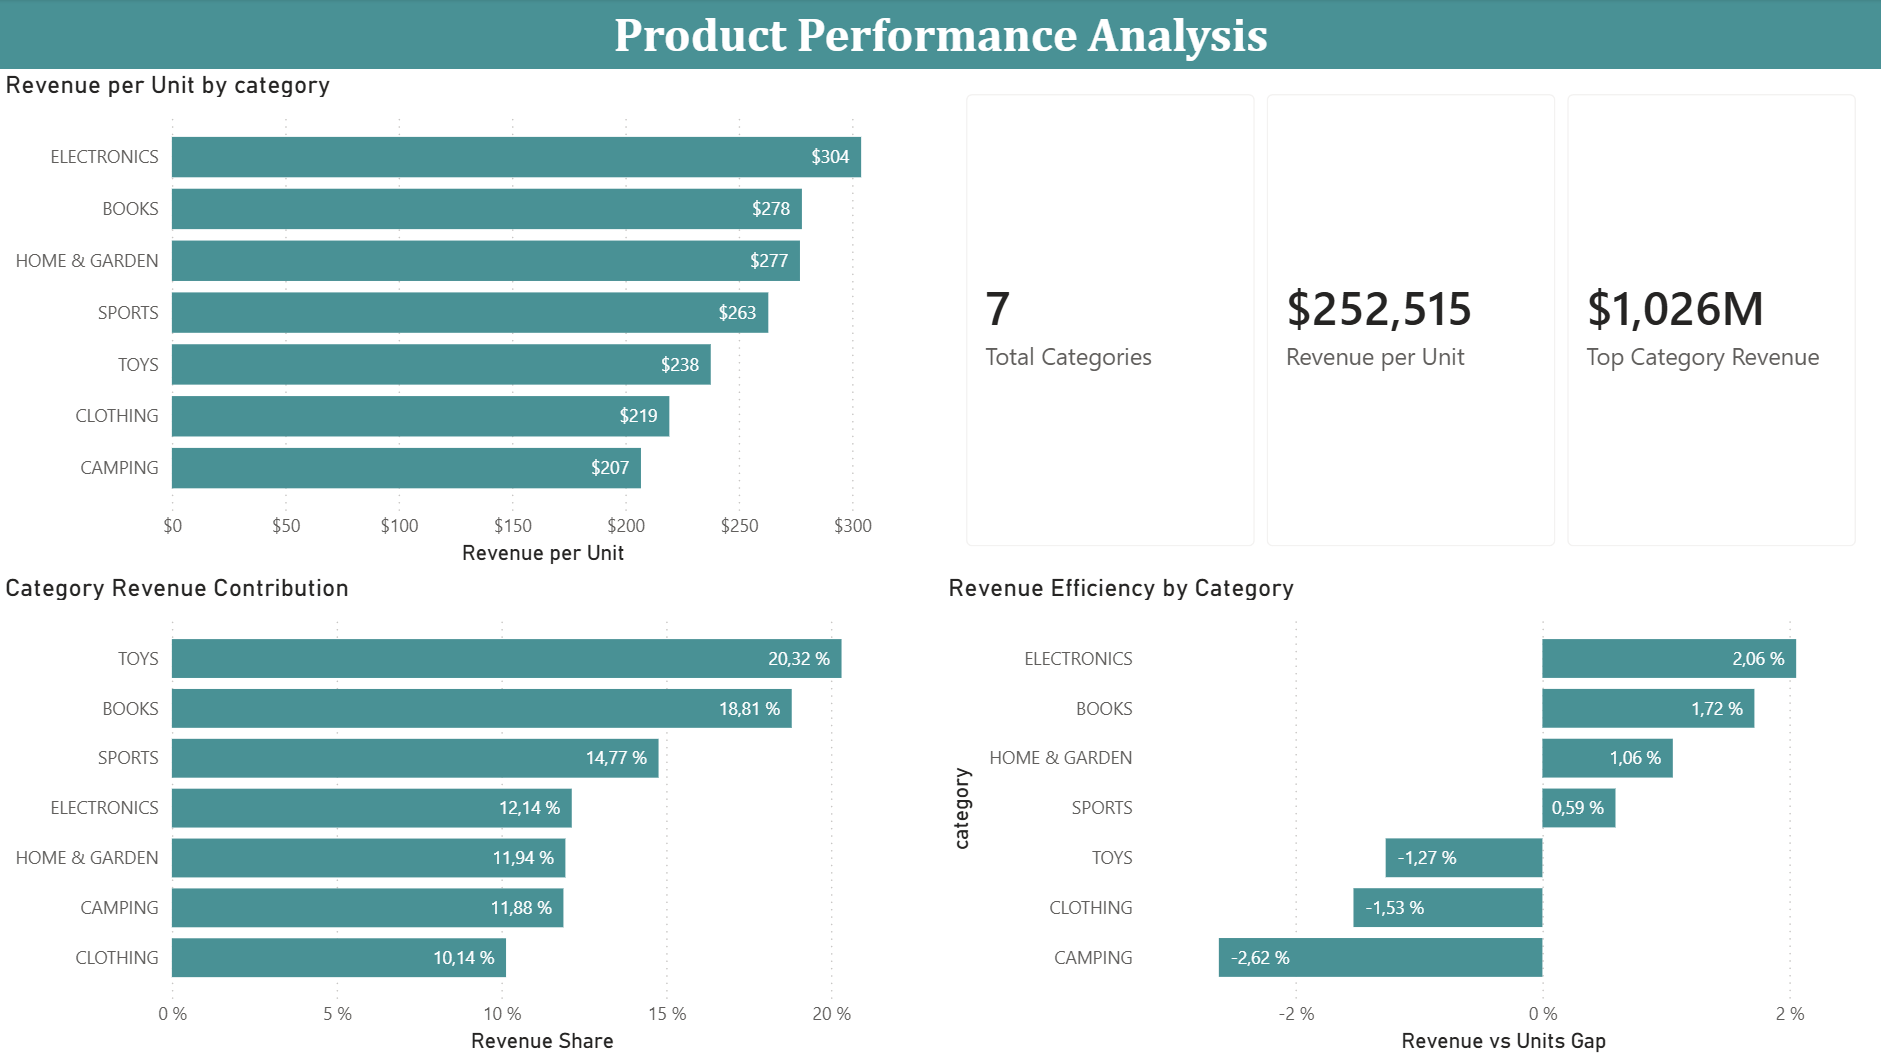

The page's visual inventory and layout, read from the dashboard file:
{"tool":"powerbi","page":{"name":"Product Analysis","canvas":[1280,720],"ordinal":2},"visuals":[{"type":"textbox","box":[0,0,1280,47.5],"z":0},{"type":"cardVisual","fields":{"Data":["sales_by_category.Total Categories","sales_by_category.Revenue per Unit","sales_by_category.Highest Category Revenue"]},"box":[640,47.5,640,341.4],"z":1},{"type":"clusteredBarChart","fields":{"Category":["sales_by_category.category"],"Y":["sales_by_category.Revenue per Unit"]},"box":[0,47.5,640,341.4],"z":2},{"type":"clusteredBarChart","title":"Category Revenue Contribution","fields":{"Category":["sales_by_category.category"],"Y":["sales_by_category.Revenue Share %"]},"box":[0,388.9,640,331.2],"z":3},{"type":"barChart","title":"Revenue Efficiency by Category","fields":{"Category":["sales_by_category.category"],"Y":["sales_by_category.Revenue vs Units Gap"]},"box":[640,389,640,331],"z":4}]}

Visuals, with their boxes in screenshot pixels (x1, y1, x2, y2), scaled from the page's 1280x720 canvas onto the 1881x1056 screenshot:
textbox: 0,0,1880,70
cardVisual - sales_by_category.Total Categories x sales_by_category.Revenue per Unit: 940,70,1880,570
clusteredBarChart - sales_by_category.category x sales_by_category.Revenue per Unit: 0,70,940,570
"Category Revenue Contribution" clusteredBarChart: 0,570,940,1055
"Revenue Efficiency by Category" barChart: 940,571,1880,1055
